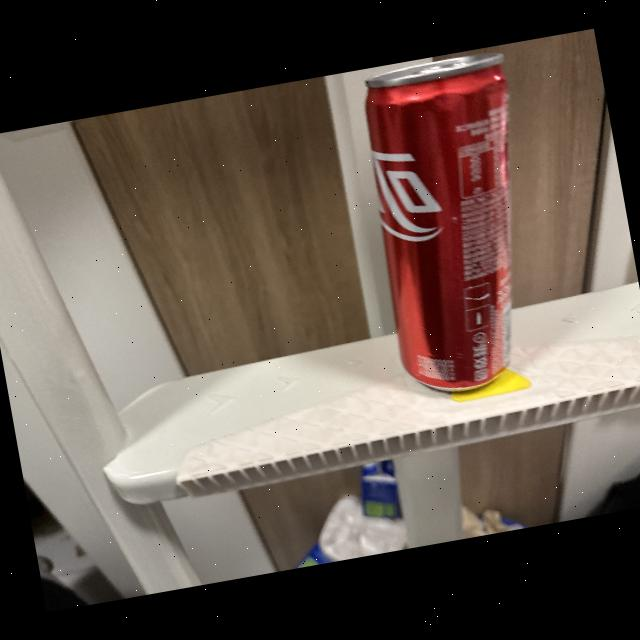Cola: (335, 42, 571, 414)
